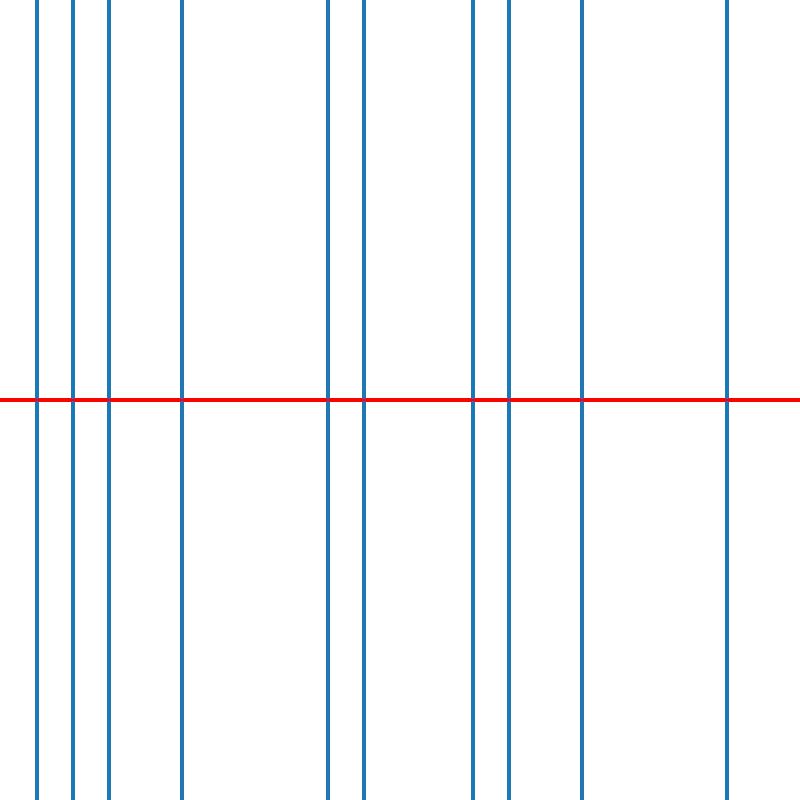root: (32, 396, 40, 404), (178, 396, 185, 404), (723, 396, 730, 404), (469, 396, 476, 404), (578, 396, 585, 404), (323, 396, 330, 404), (360, 396, 367, 404), (105, 396, 112, 404), (505, 396, 512, 404), (69, 396, 76, 404)
